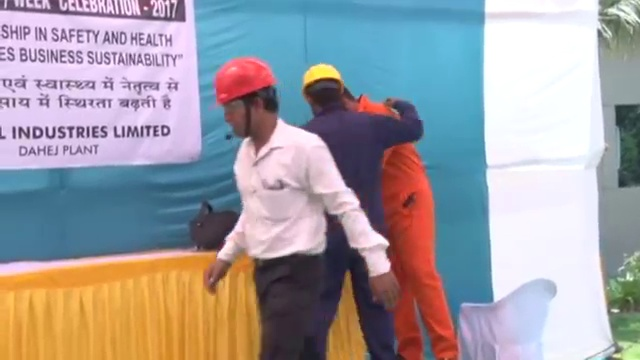helmet: (210, 56, 279, 107), (300, 62, 345, 95)
helmet_on: (209, 56, 284, 150), (295, 61, 349, 116)
person: (205, 55, 395, 360), (292, 58, 421, 360), (338, 78, 459, 359)
